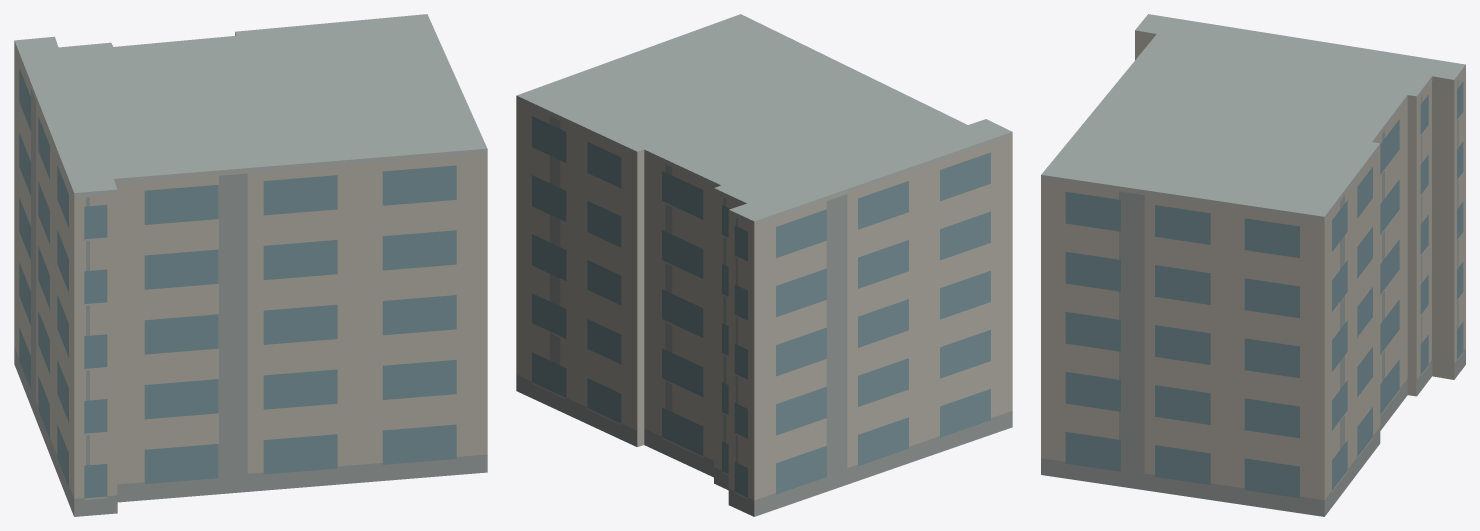
The model's file is survey-upis-32754662.glb.
The picture shows the model from 3 angles, left to right: view 1: azimuth 30°, elevation 25°; view 2: azimuth 150°, elevation 25°; view 3: azimuth 270°, elevation 25°; orthographic projection. The views are drawn at different scales.
Visible parts, largest first — view 1: survey-upis-32754662.tmp; view 2: survey-upis-32754662.tmp; view 3: survey-upis-32754662.tmp.
Boxes of the visible parts, x1,y1,x2,y2 form: survey-upis-32754662.tmp: (14, 14, 487, 516); survey-upis-32754662.tmp: (516, 14, 1012, 516); survey-upis-32754662.tmp: (1041, 14, 1465, 516).
Bounding box in the file's own units: 21.17 × 14.6 × 18.74.
